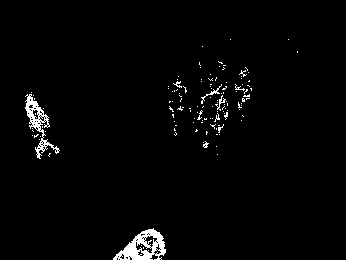person: (22, 92, 61, 158), (199, 81, 229, 154), (167, 77, 188, 135)
